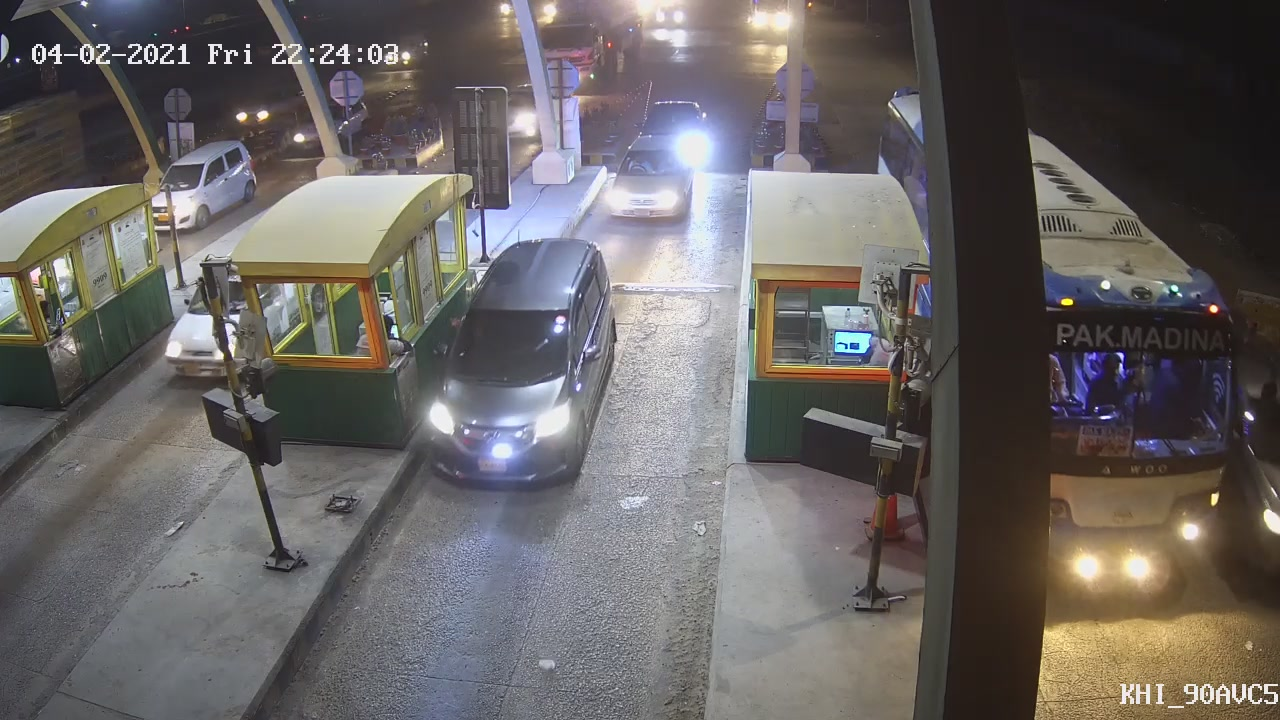F1: (423, 234, 622, 496), (602, 139, 704, 220)
